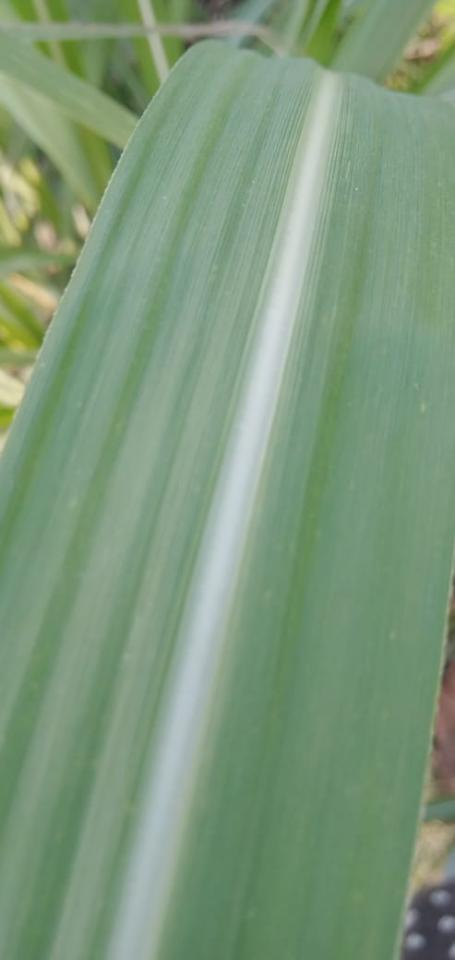Healthy: (0, 45, 454, 959)
